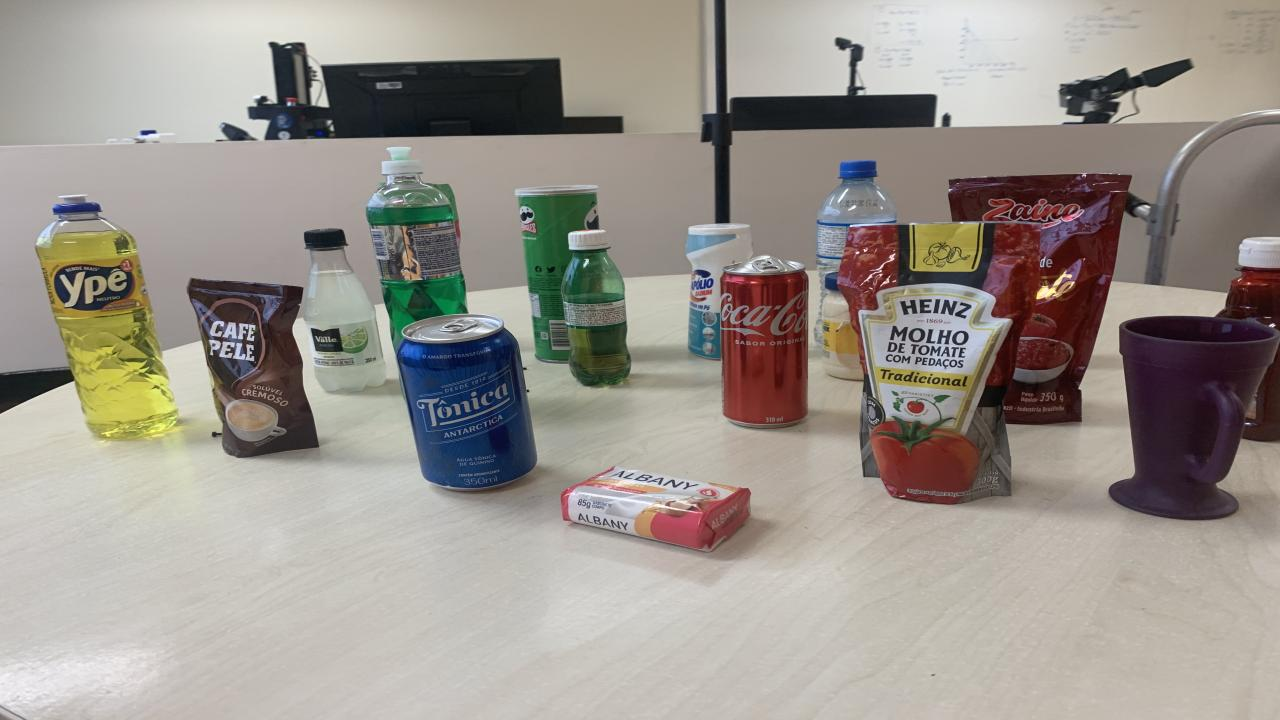Cleaner-Cleanup_Items: (685, 223, 752, 360)
Coffee-Pantry_Items: (188, 279, 318, 458)
Coke-Drinks: (720, 255, 808, 428)
Detergent-Cleanup_Items: (35, 195, 178, 439), (368, 146, 468, 349)
Guarana-Drinks: (562, 229, 630, 386)
Ketchup-Pantry_Items: (1218, 236, 1280, 330), (1242, 349, 1280, 441)
Mayonnaise-Pantry_Items: (820, 274, 862, 381)
Pringles-Snacks: (515, 186, 598, 362)
Soap-Cleanup_Items: (562, 467, 750, 551)
Soda-Drinks: (302, 229, 385, 392)
Tomato_Sauce-Pantry_Items: (838, 221, 1040, 504), (950, 174, 1130, 424)
Tonic-Drinks: (398, 315, 538, 489)
Trophy-Miscellaneous: (1110, 317, 1280, 519)
Water_Bottle-Drinks: (818, 161, 898, 281)
